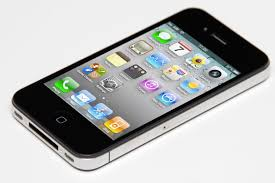iphone: (6, 1, 270, 173)
iphone4: (7, 1, 271, 173)
